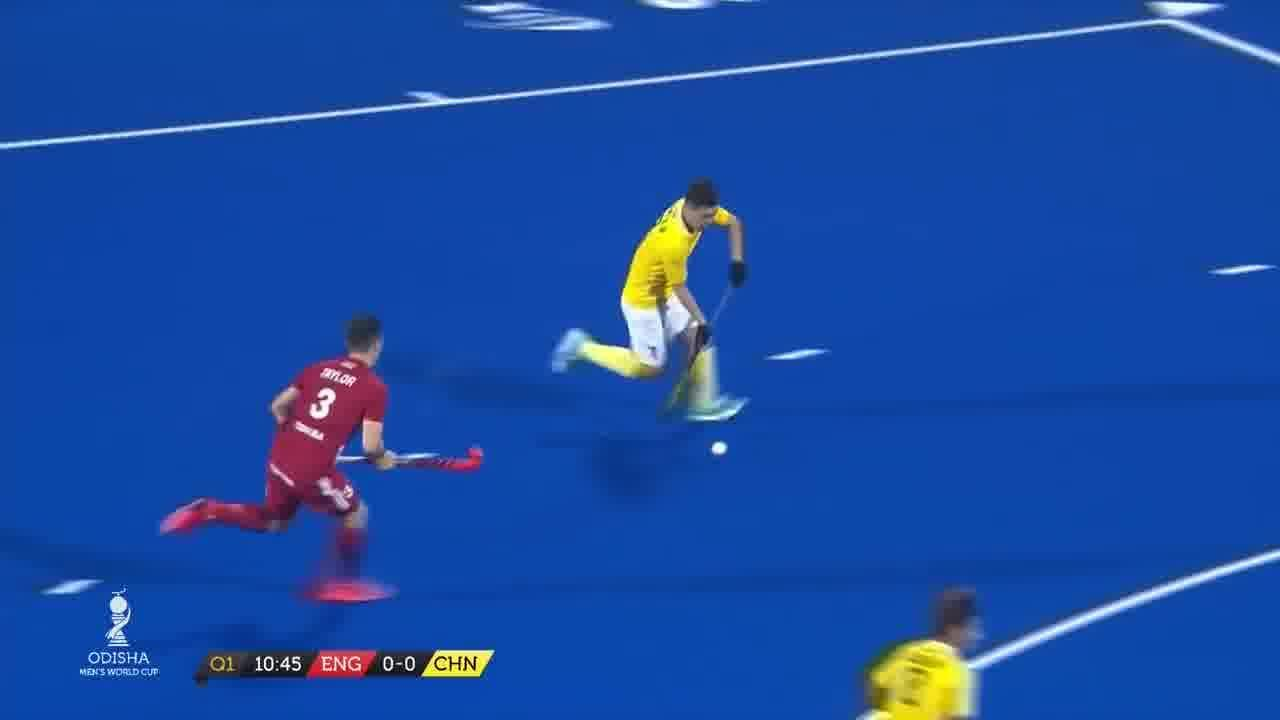ball: (708, 442, 730, 460)
